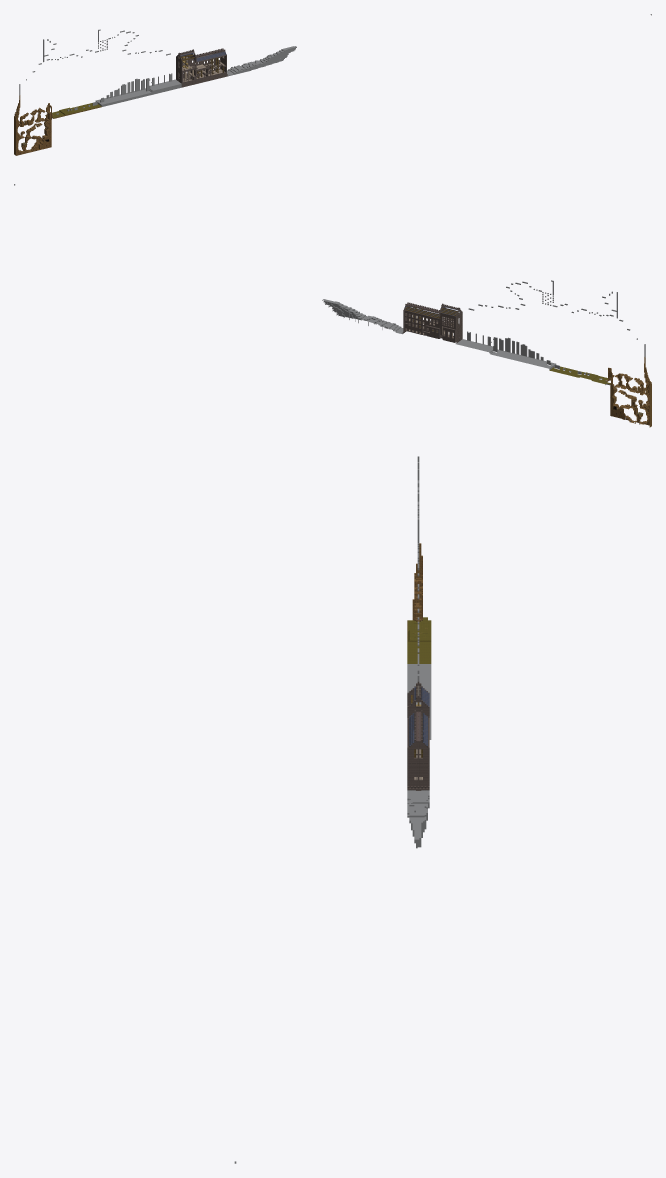
Rendered from level_test.obj.
The picture shows the model from 3 angles, top to bottom: view 1: azimuth 30°, elevation 25°; view 2: azimuth 150°, elevation 25°; view 3: azimuth 270°, elevation 25°; orthographic projection. The views are drawn at different scales.
Visible parts, largest first — view 1: level.001; view 2: level.001; view 3: level.001.
Boxes of the visible parts, x1,y1,x2,y2 form: level.001: [14, 14, 651, 155]; level.001: [14, 184, 651, 427]; level.001: [234, 456, 431, 1163].
Size of the model in its own units: 797 by 140 by 115.
Materials: 3 (3 with a texture image).
